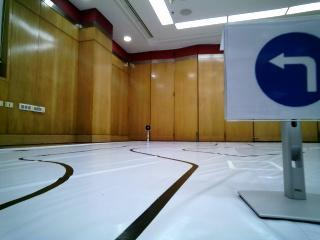left: (226, 25, 320, 115)
